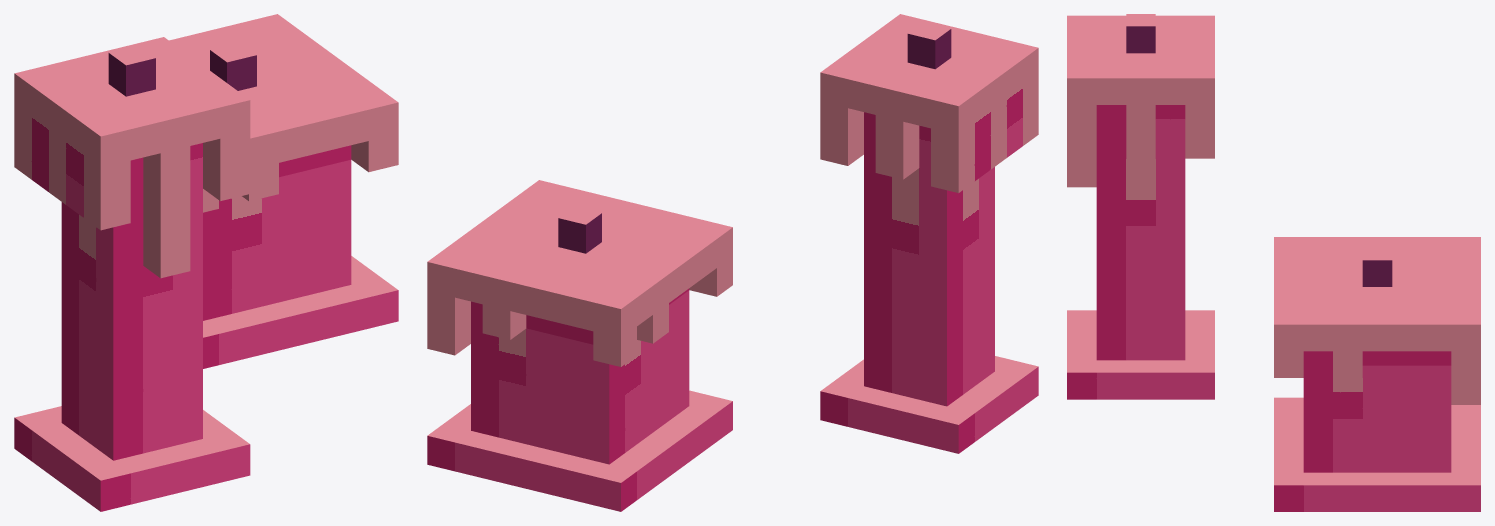
Rendered from candles_cao.fezao.glb.
3 views of the same model, side by side, from view 1: azimuth 30°, elevation 25°; view 2: azimuth 150°, elevation 25°; view 3: azimuth 270°, elevation 25° (orthographic). The views are drawn at different scales.
Parts seen in each view (by area): view 1: CANDLES_CAO; view 2: CANDLES_CAO; view 3: CANDLES_CAO.
Boxes of the visible parts, x1,y1,x2,y2 form: CANDLES_CAO: (14,14,398,511); CANDLES_CAO: (427,14,1038,511); CANDLES_CAO: (1067,14,1480,511).
Bounding box in the file's own units: 0.875 × 0.8125 × 0.875.
Materials: 1 (1 with a texture image).
